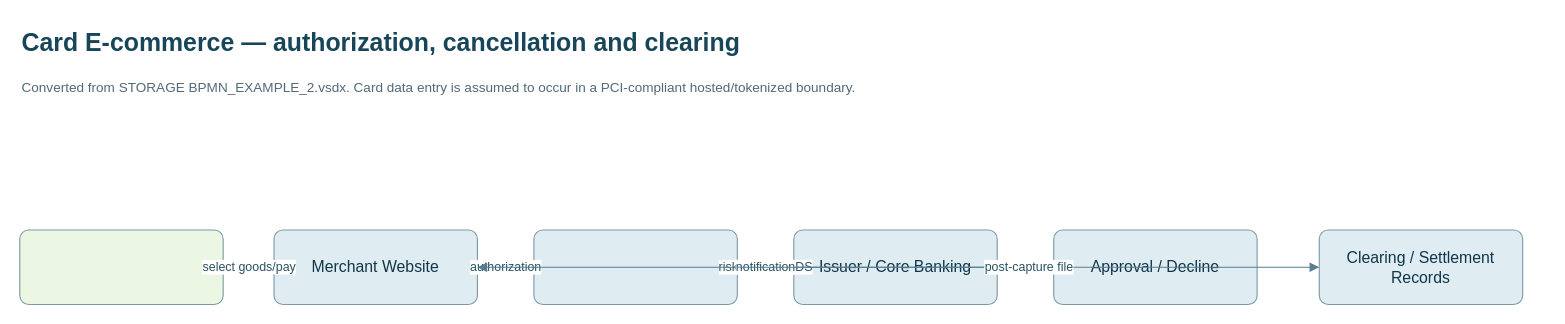
Image size: 1565x324. Some labels were removed from this diagram. The centre of each missing label's shape, as x and y in pixels:
Acquiring Processor: [635,267]
Cardholder / Checkout: [121,267]
